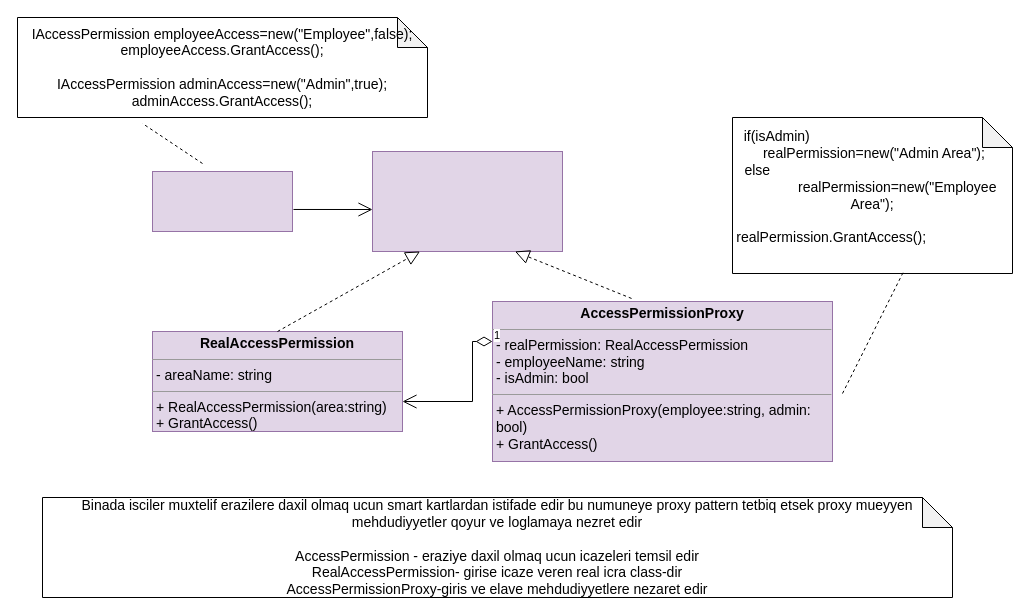
Some shapes in this 1030 by 615 pixel diagram are drawn without their labels. Each missing label, with the centre of its shape:
<<Interface>> IAccessPermission ..... + GrantAccess(): (x=467, y=201)
Client: (x=222, y=201)
